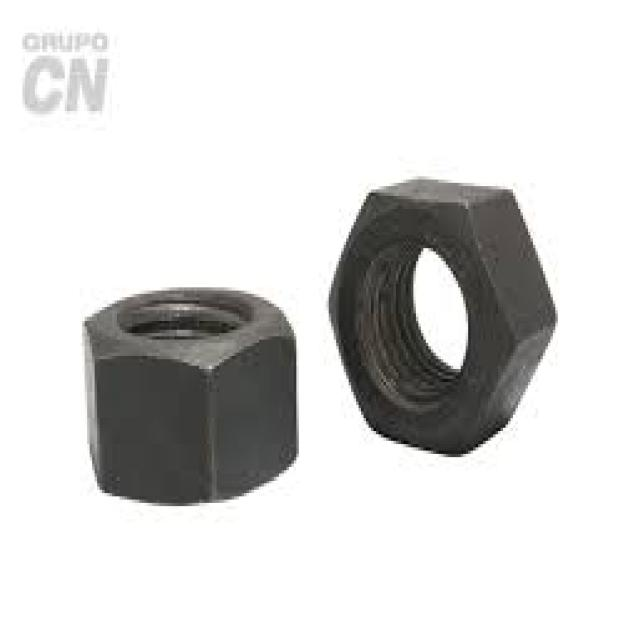Dry Waste: (82, 158, 565, 538)
